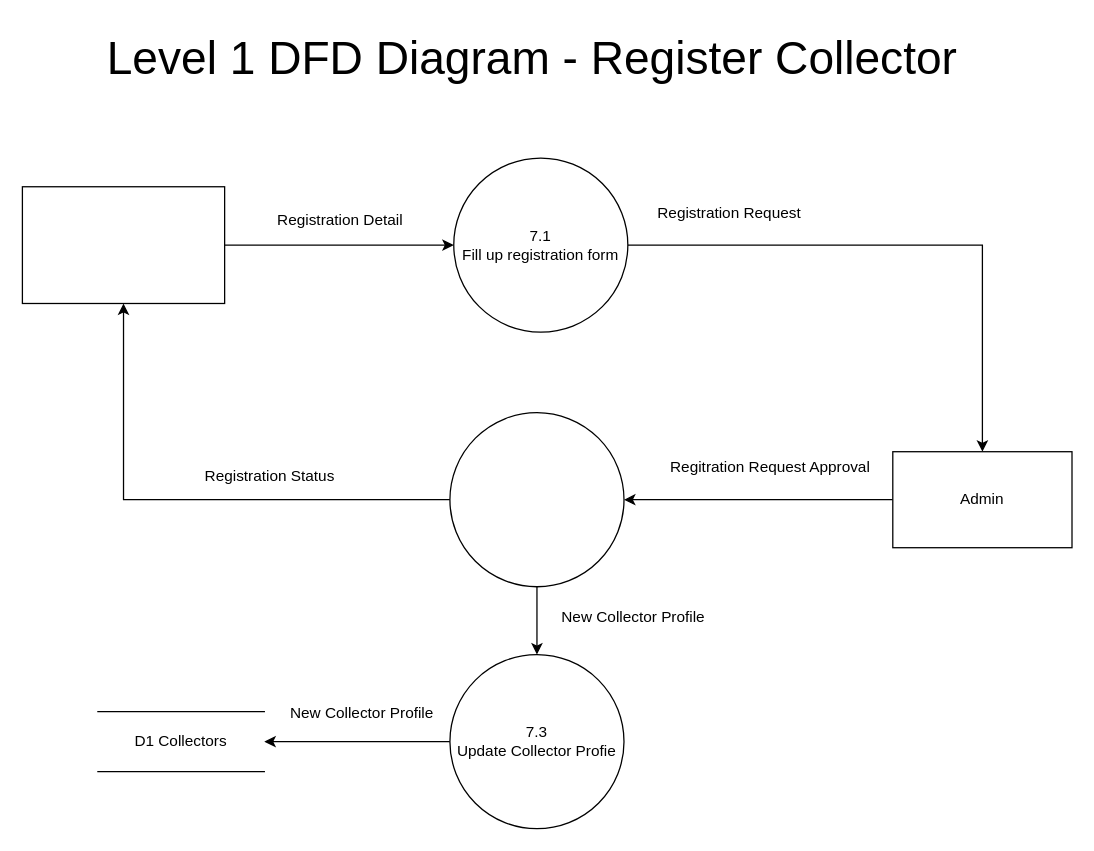
Some shapes in this 1094 by 851 pixel diagram are drawn without their labels. Here are the shapes that lost their labels. From the top down, the centre of each, then its label:
At point 123,244: "User".
At point 536,499: "7.2 Verify Registration".
